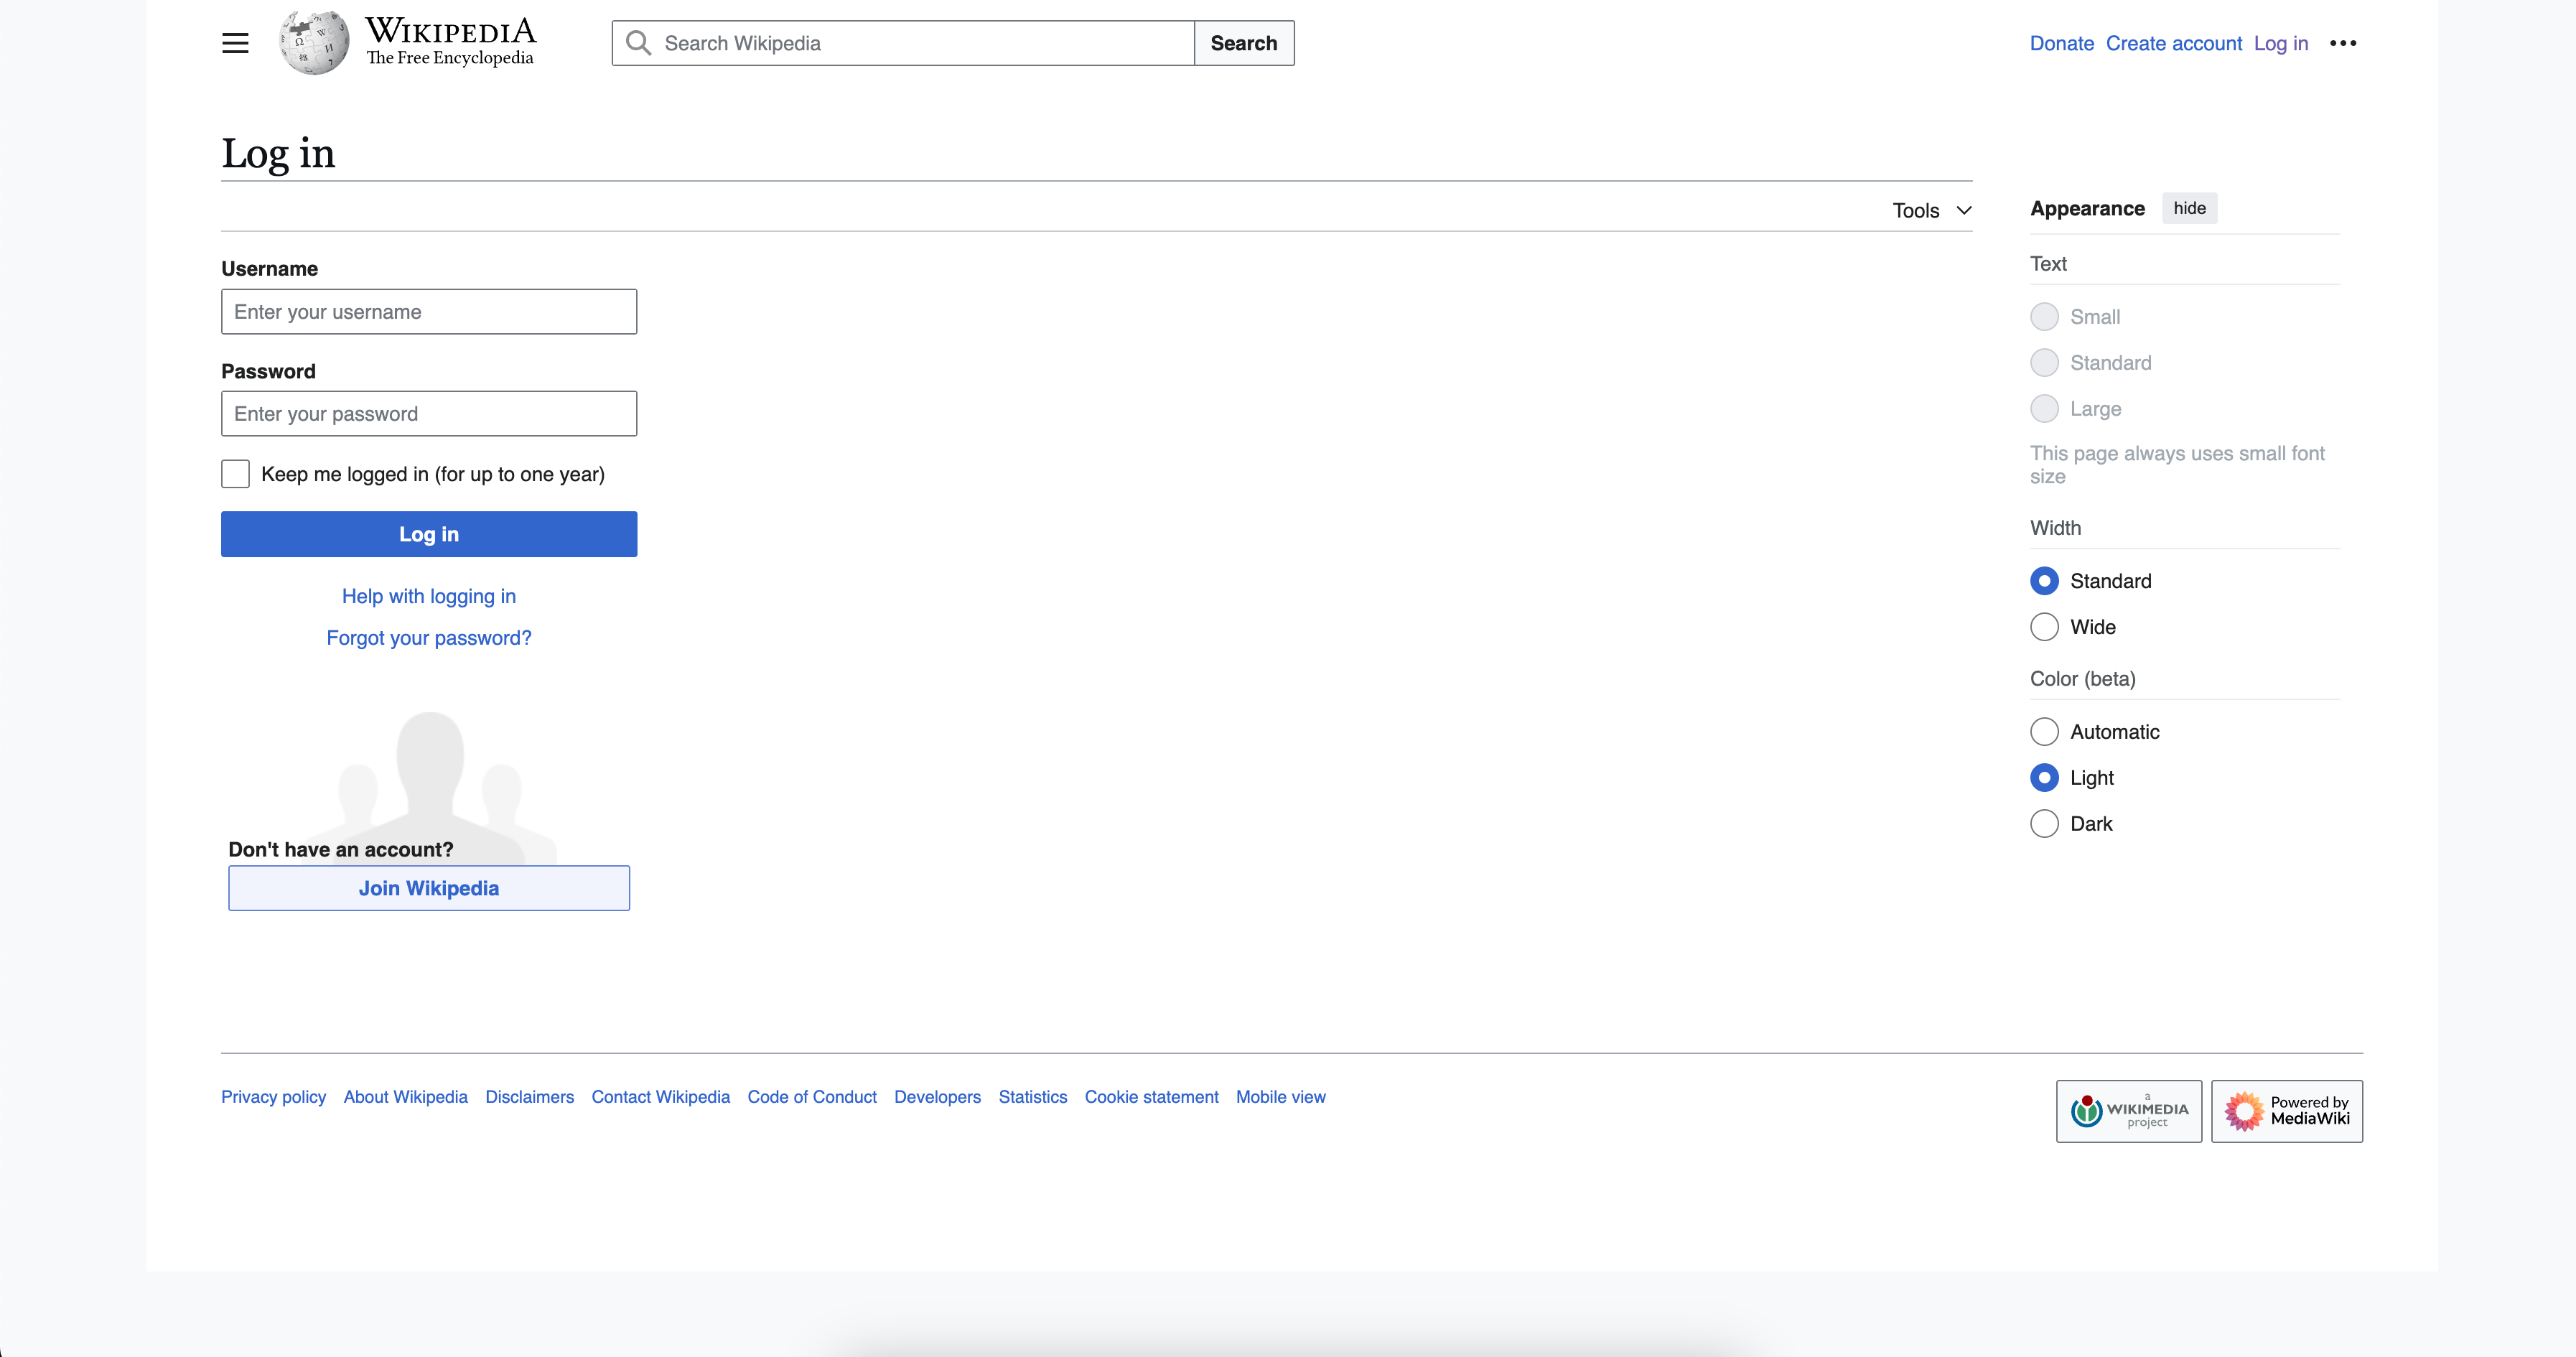button: (218, 388, 641, 440), (220, 510, 640, 559), (228, 865, 633, 913), (2210, 1080, 2366, 1144), (2055, 1078, 2205, 1144), (1193, 19, 1297, 67), (2162, 192, 2218, 226)
input: (610, 19, 1200, 69), (220, 286, 641, 338)
label: (233, 299, 424, 327), (233, 404, 424, 428), (663, 34, 823, 58)
